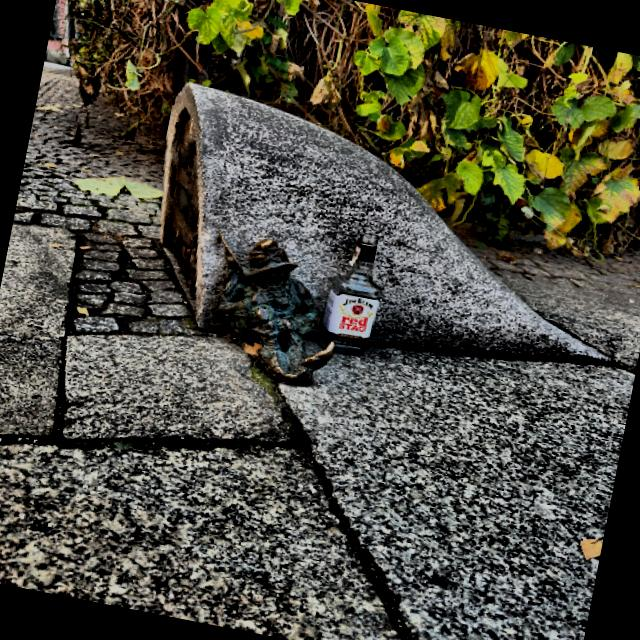Spioch: (218, 233, 334, 384)
